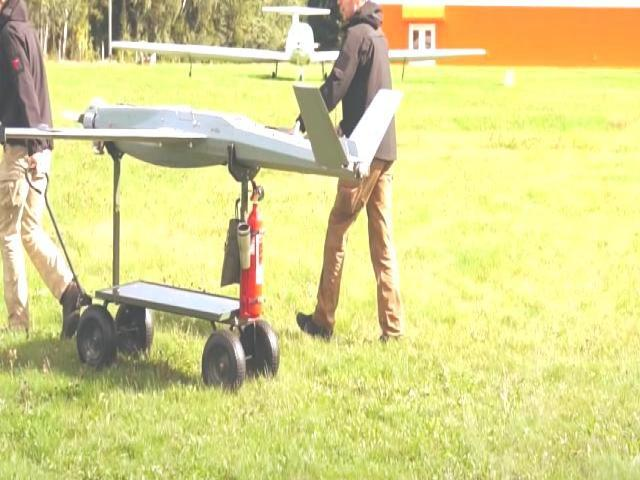iha: (106, 5, 489, 65)
